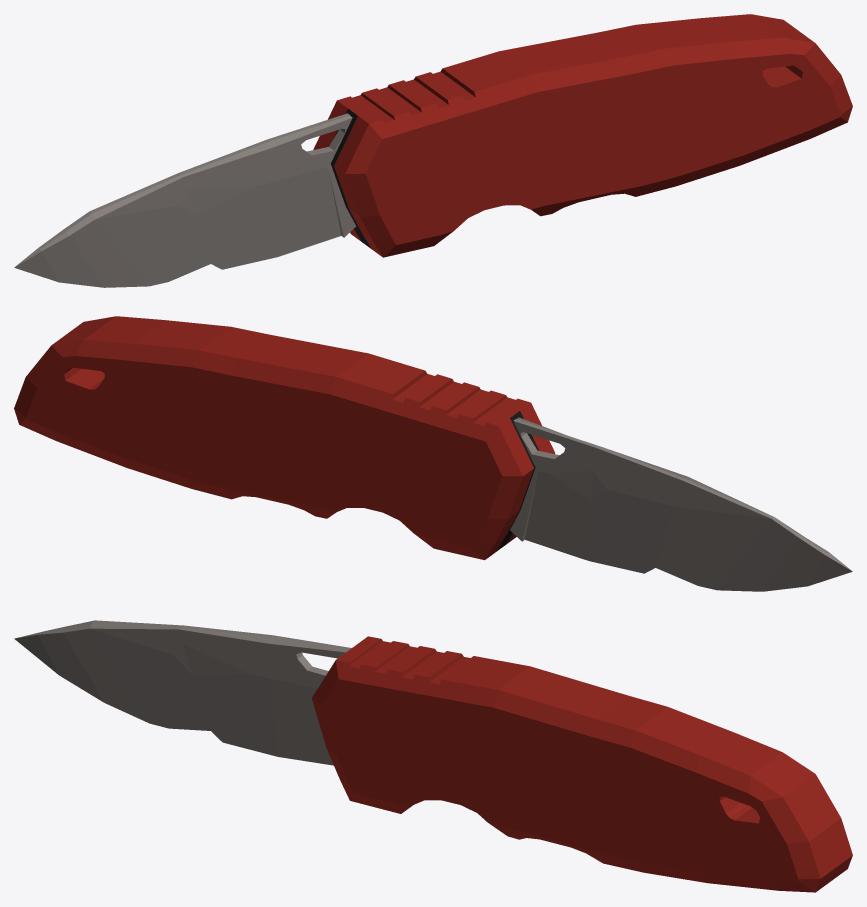
Rendered from Flick_Knife.gltf.
3 views of the same model, one above another, from view 1: azimuth 30°, elevation 25°; view 2: azimuth 150°, elevation 25°; view 3: azimuth 330°, elevation 25° (orthographic).
Parts seen in each view (by area): view 1: Flick_Knife, Blade; view 2: Flick_Knife, Blade; view 3: Flick_Knife, Blade.
Part boxes in pixels (left/top/right/bottom): Flick_Knife: left=313, top=14, right=852, bottom=257; Blade: left=14, top=113, right=356, bottom=287; Flick_Knife: left=14, top=316, right=554, bottom=560; Blade: left=510, top=417, right=852, bottom=591; Flick_Knife: left=311, top=636, right=852, bottom=892; Blade: left=14, top=620, right=351, bottom=765.
Bounding box in the file's own units: 0.2037 × 0.035 × 0.0183.
